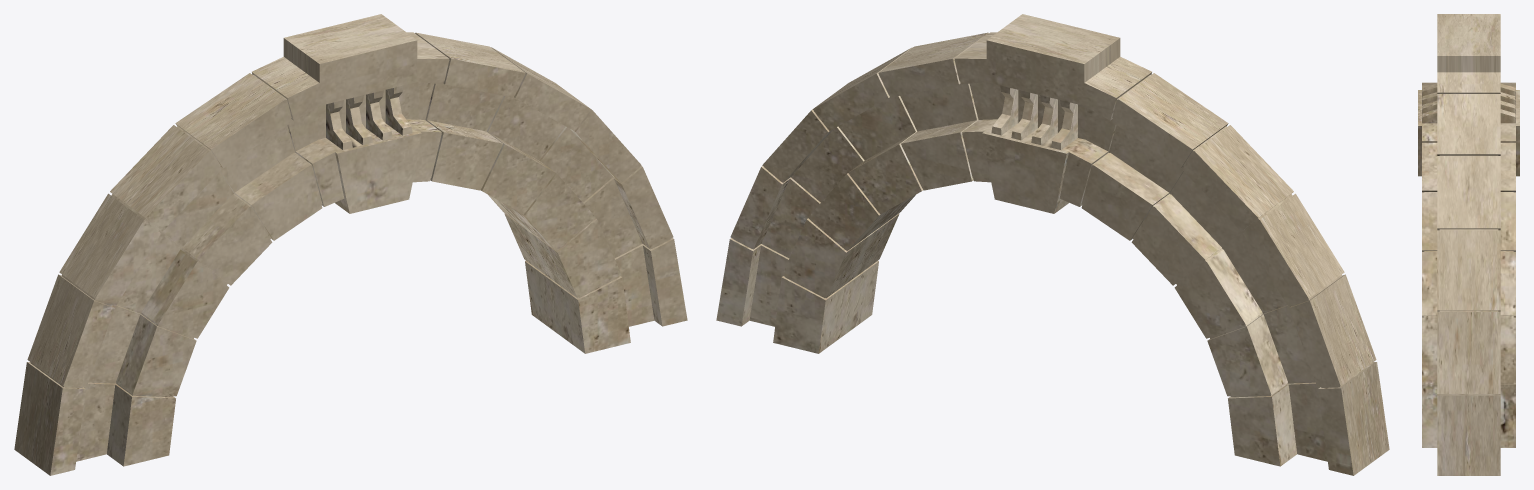
Rendered from 2sided_bent.FBX.
3 renders of one model, left to right at view 1: azimuth 30°, elevation 25°; view 2: azimuth 150°, elevation 25°; view 3: azimuth 270°, elevation 25°, orthographic. The views are drawn at different scales.
Parts seen in each view (by area): view 1: Torus004; view 2: Torus004; view 3: Torus004.
Part boxes in pixels (bbox=[...]): Torus004: bbox=[14, 14, 687, 475]; Torus004: bbox=[716, 14, 1389, 475]; Torus004: bbox=[1418, 14, 1519, 475].
Bounding box in the file's own units: 427 × 222 × 67.28.
